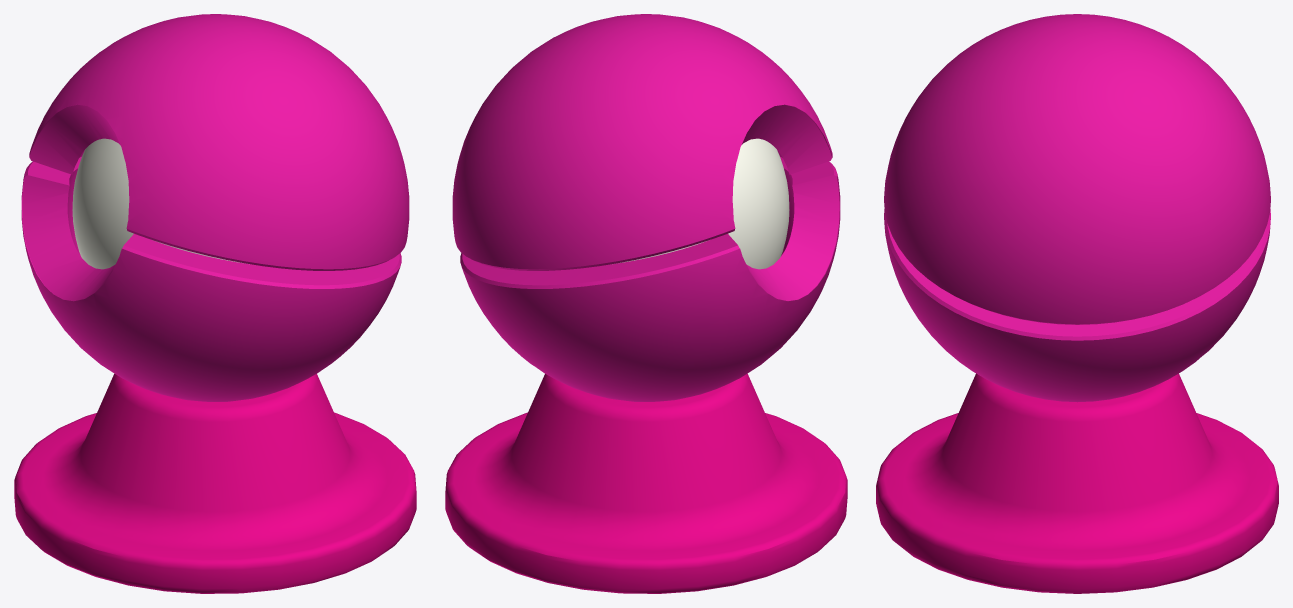
File: ShaderBall.glb
The picture shows the model from 3 angles, left to right: view 1: azimuth 30°, elevation 25°; view 2: azimuth 150°, elevation 25°; view 3: azimuth 270°, elevation 25°; orthographic projection.
Visible parts, largest first — view 1: OuterSphere, Base, InnerSphere; view 2: OuterSphere, Base, InnerSphere; view 3: OuterSphere, Base.
Boxes of the visible parts, x1=… form: OuterSphere: x1=21, y1=14, x2=409, y2=401; Base: x1=14, y1=373, x2=416, y2=593; InnerSphere: x1=72, y1=138, x2=249, y2=269; OuterSphere: x1=452, y1=14, x2=840, y2=401; Base: x1=445, y1=373, x2=847, y2=593; InnerSphere: x1=612, y1=138, x2=789, y2=269; OuterSphere: x1=884, y1=14, x2=1270, y2=402; Base: x1=876, y1=373, x2=1278, y2=593.
Size of the model in its own units: 4.1 by 5.38 by 4.1.
